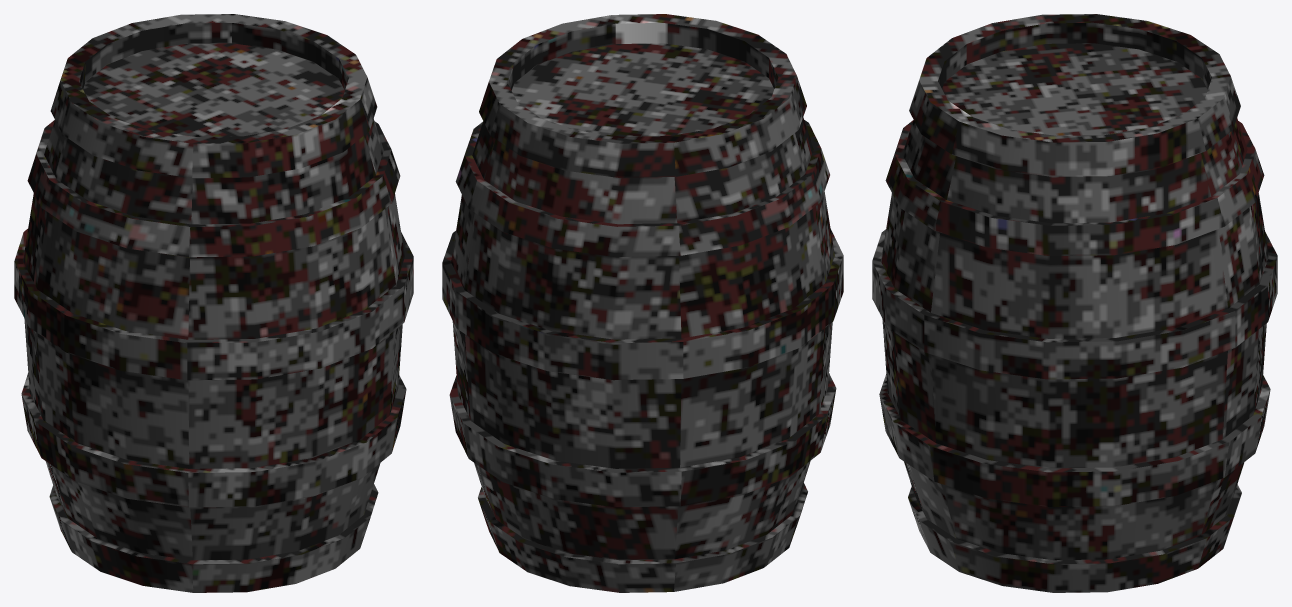
Rendered from BarrelWooden.fbx.
3 views of the same model, side by side, from view 1: azimuth 30°, elevation 25°; view 2: azimuth 150°, elevation 25°; view 3: azimuth 270°, elevation 25° (orthographic).
Parts seen in each view (by area): view 1: Barrel; view 2: Barrel; view 3: Barrel.
Boxes of the visible parts, x1,y1,x2,y2 form: Barrel: [14, 14, 413, 592]; Barrel: [442, 14, 843, 592]; Barrel: [872, 14, 1277, 592].
Size of the model in its own units: 72.45 by 90.93 by 74.22.
Materials: 1 (1 with a texture image).
